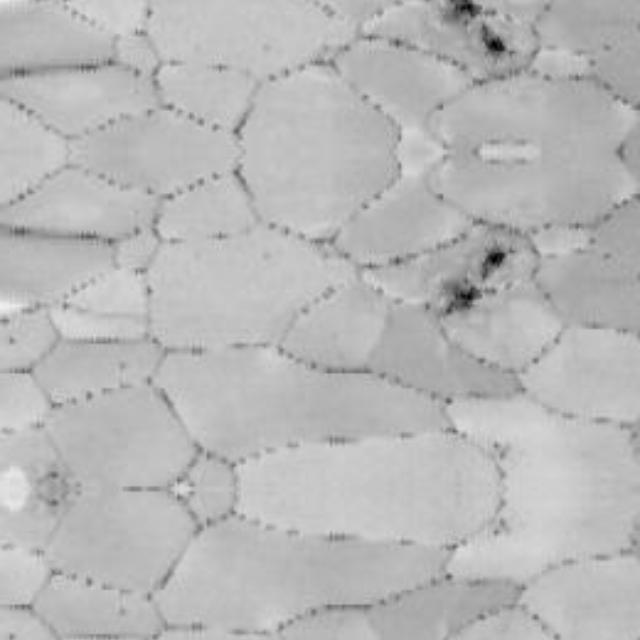good_void: (439, 276, 484, 315), (476, 241, 515, 282), (476, 20, 515, 61), (442, 0, 484, 26)
